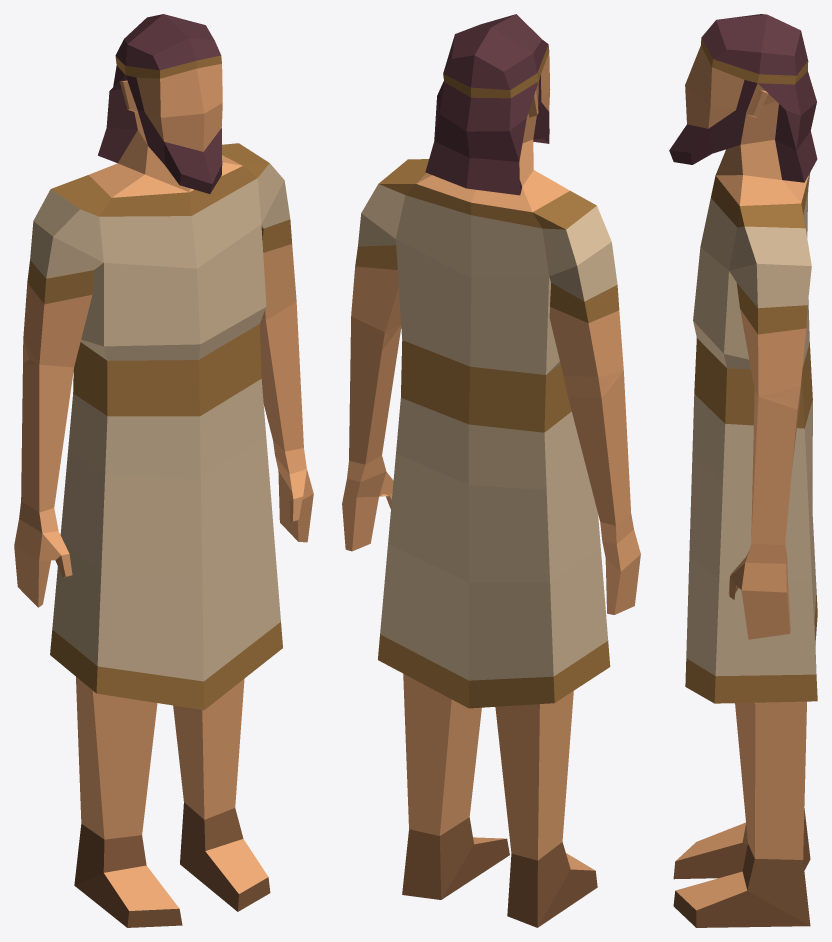
File: SM_Man_Empire.fbx
3 views of the same model, side by side, from view 1: azimuth 30°, elevation 25°; view 2: azimuth 150°, elevation 25°; view 3: azimuth 270°, elevation 25° (orthographic).
Parts seen in each view (by area): view 1: c; view 2: c; view 3: c.
Boxes of the visible parts, box(x1,y1,x2,y2) form: c: box(14, 14, 313, 927); c: box(342, 14, 640, 927); c: box(669, 14, 817, 927).
Bounding box in the file's own units: 0.608 × 1.81 × 0.2774.
